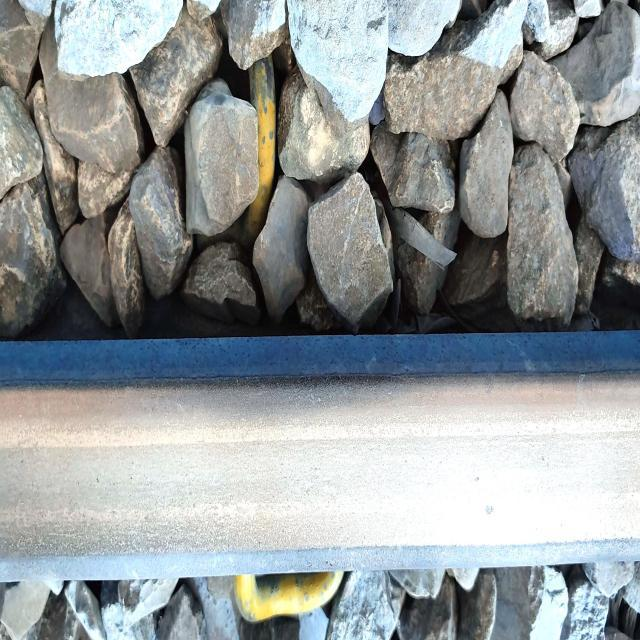Good Fasteners: (233, 571, 344, 622), (245, 56, 276, 238)
